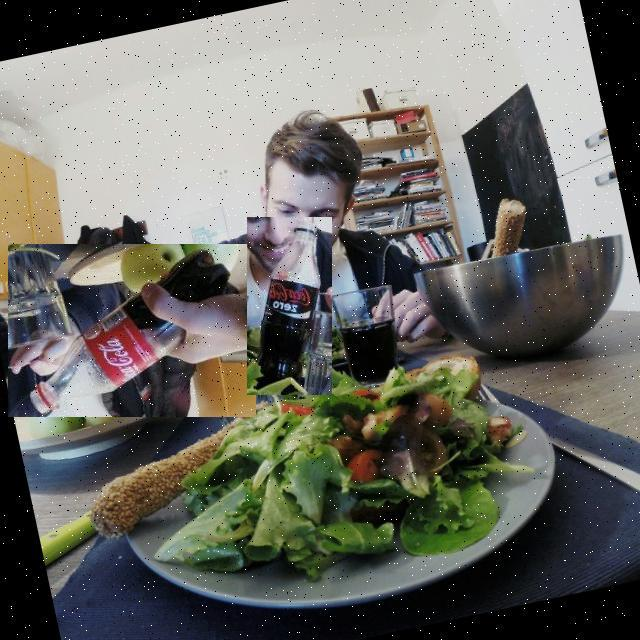coca-cola: (8, 244, 256, 417), (247, 217, 332, 395)
